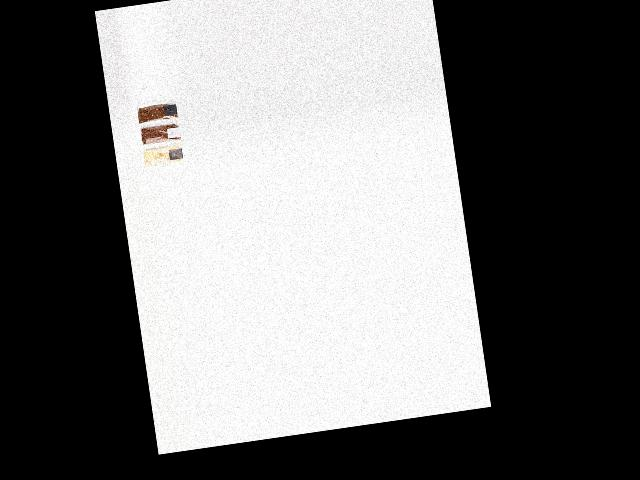chocolate: (134, 98, 177, 123)
